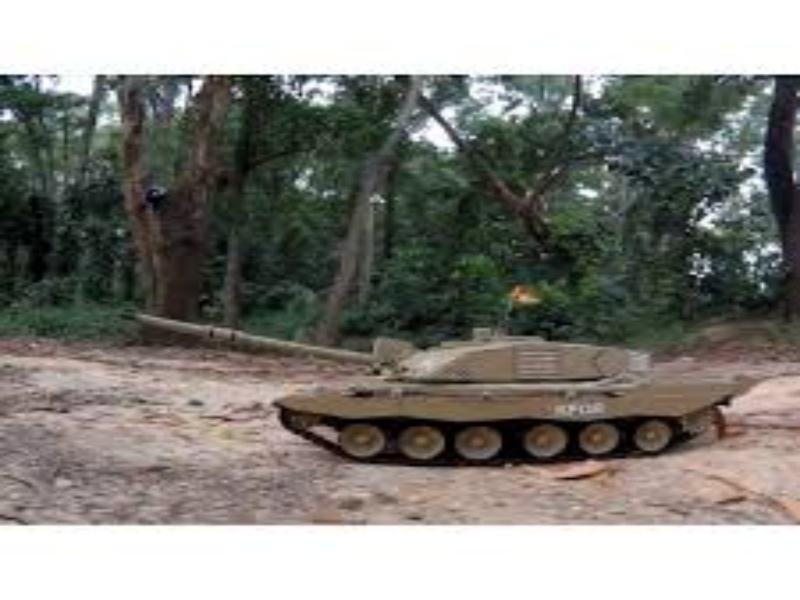tank: (119, 282, 776, 466)
